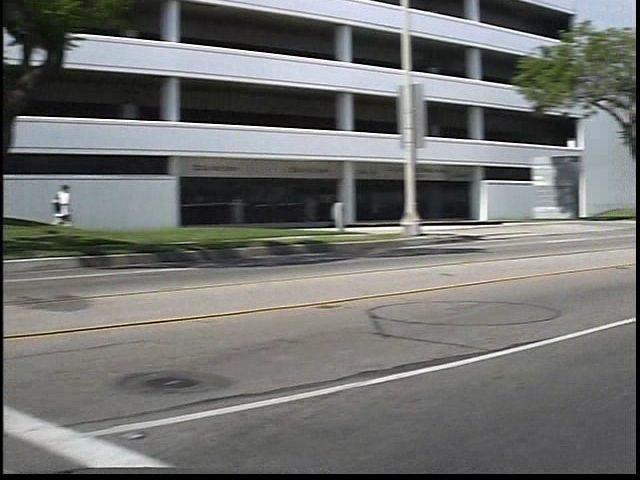person: (71, 178, 99, 247)
